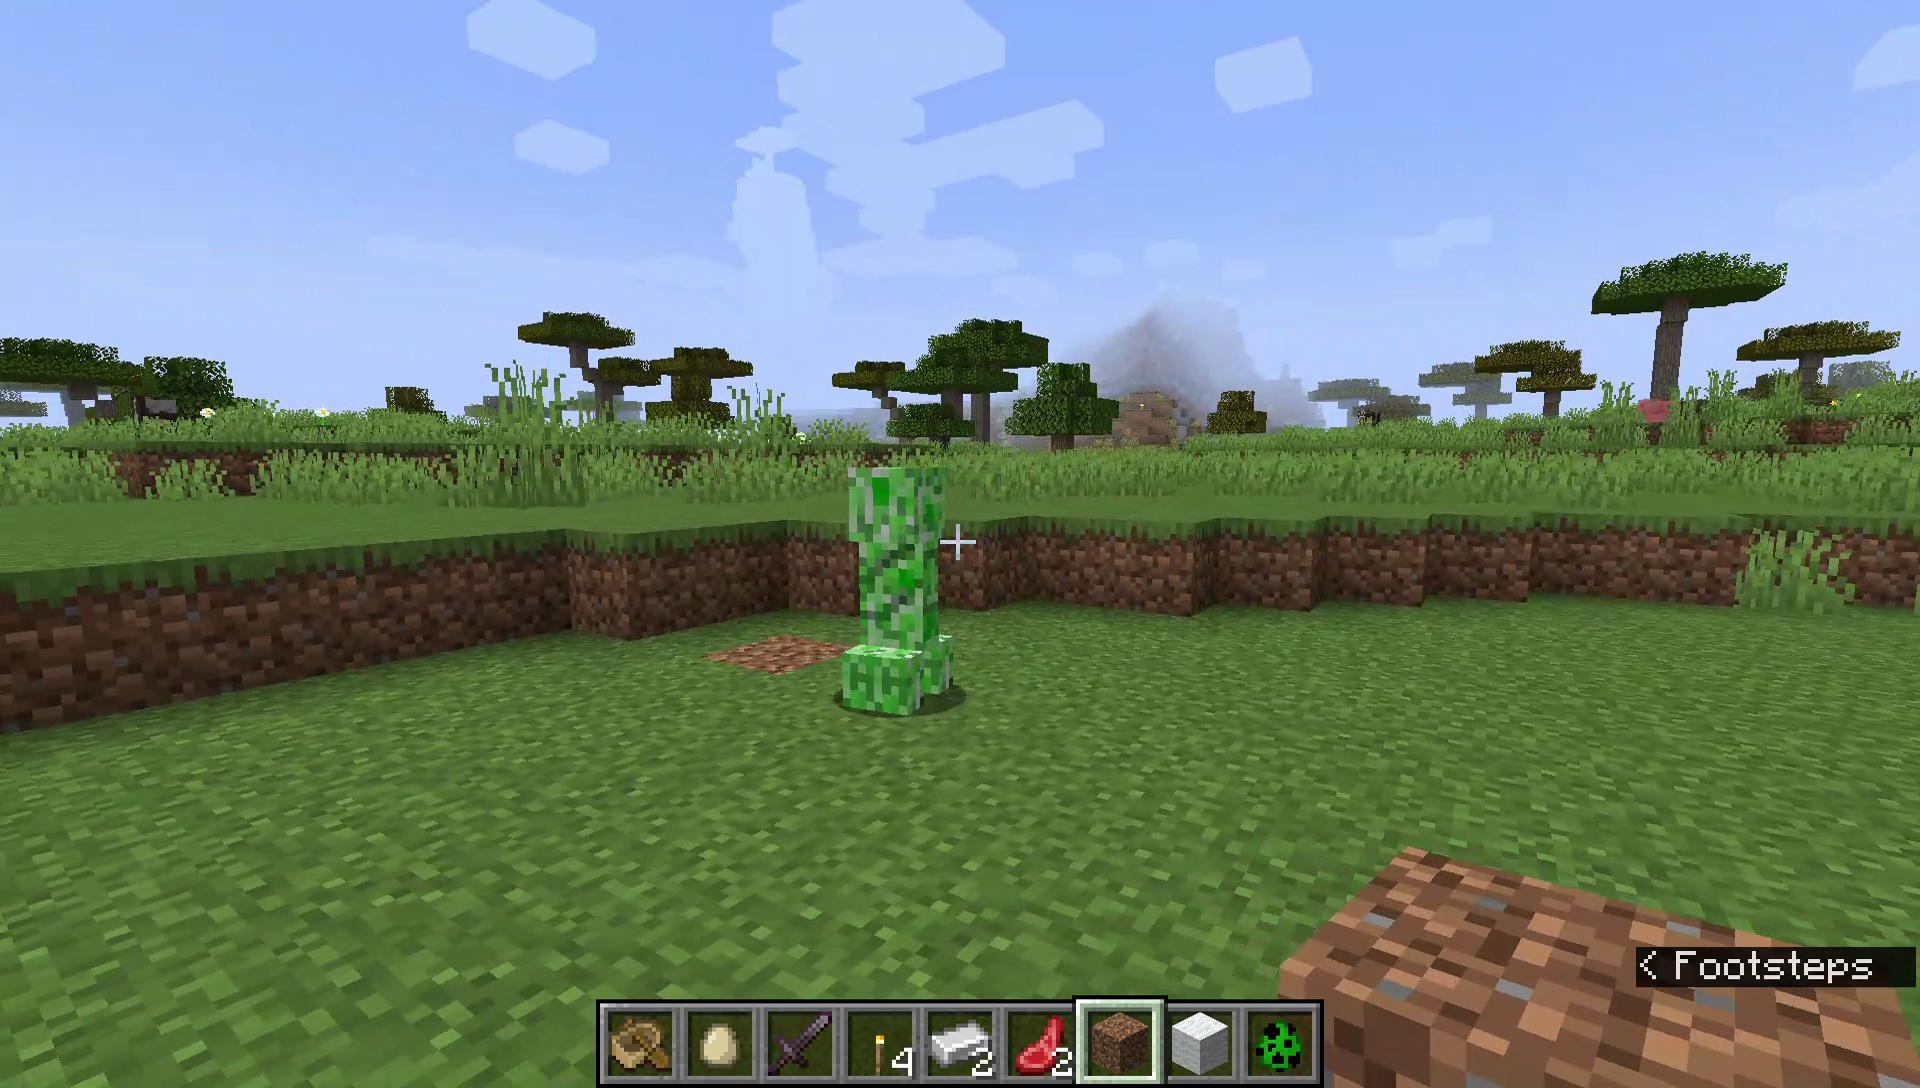cow: (131, 390, 186, 439), (1356, 408, 1382, 430)
creeper: (841, 460, 957, 723)
pig: (1636, 396, 1673, 425)
